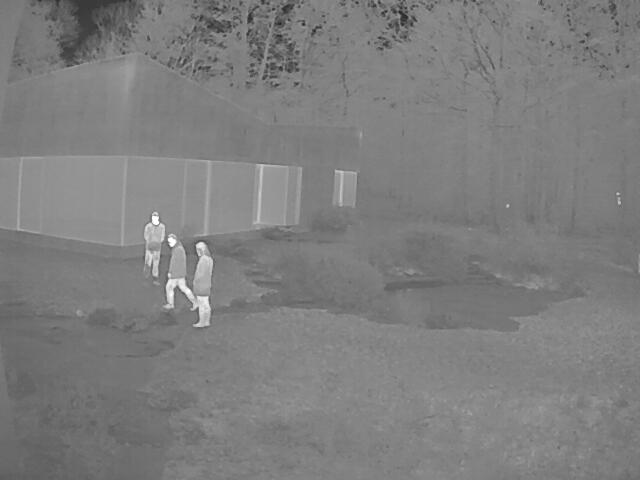person: (163, 233, 199, 312), (191, 241, 211, 326), (143, 210, 163, 283)
